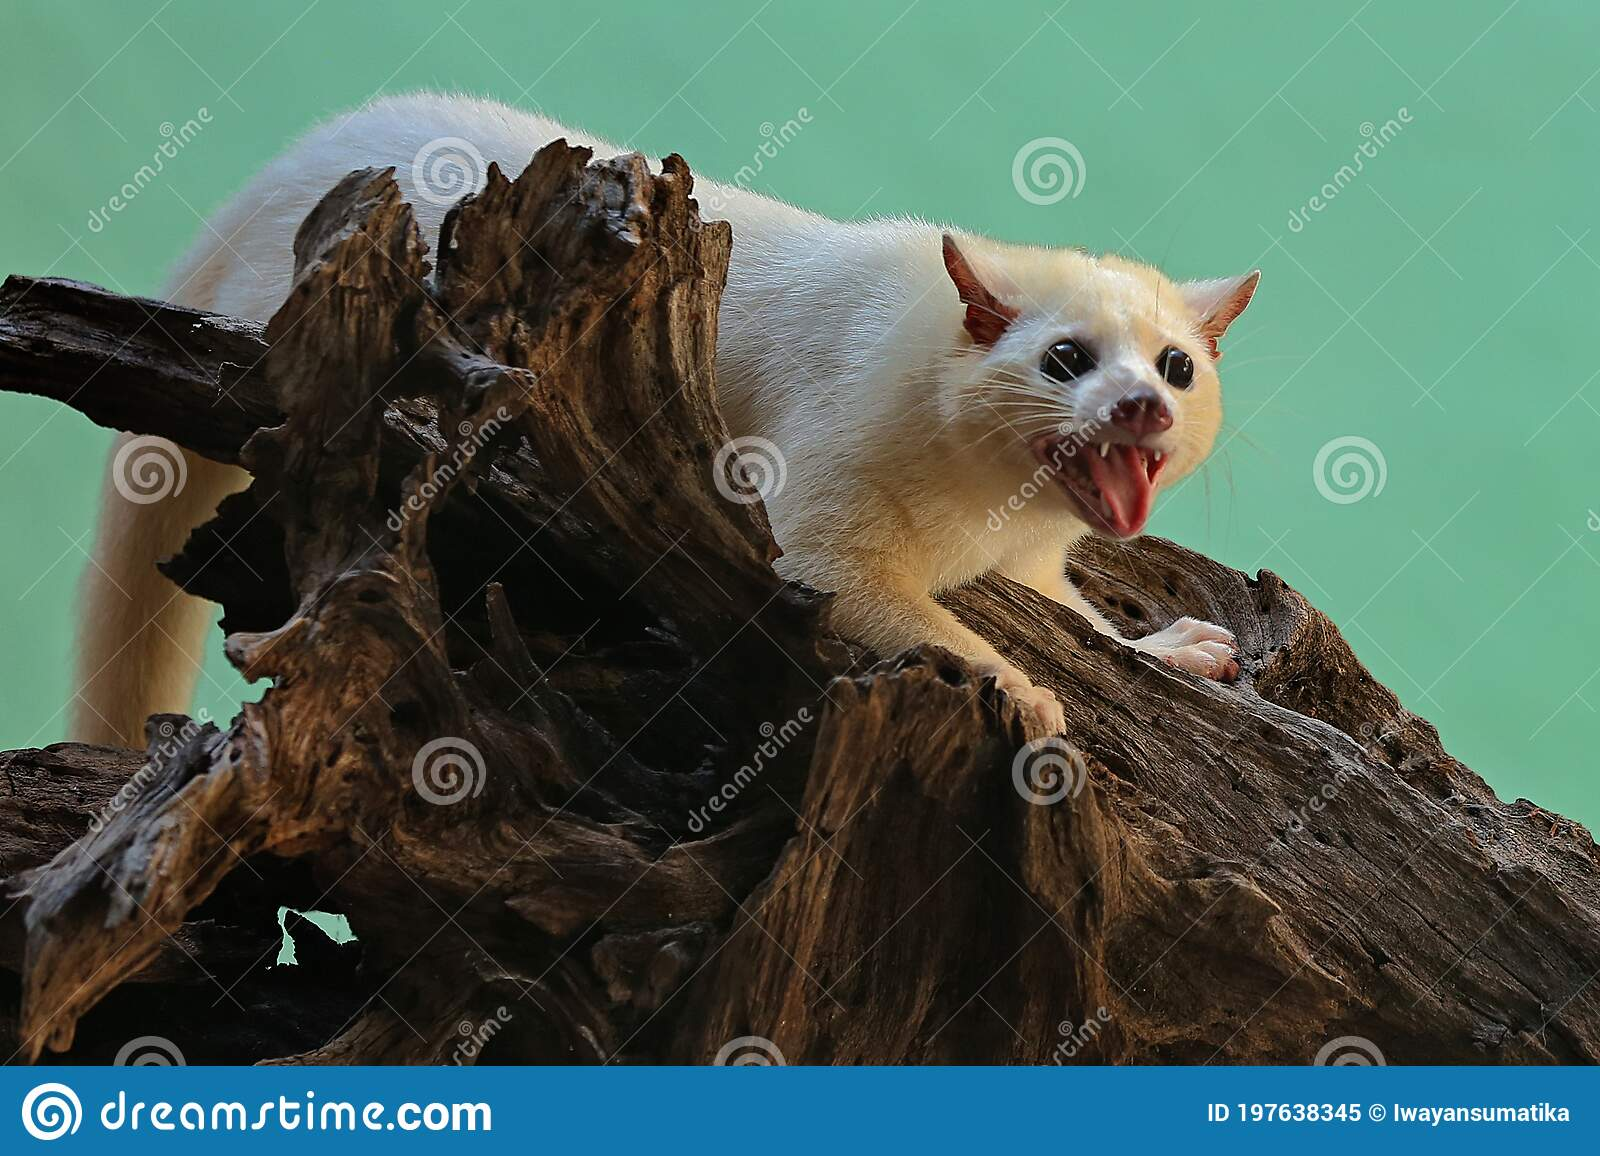Civet: (740, 171, 1271, 630)
